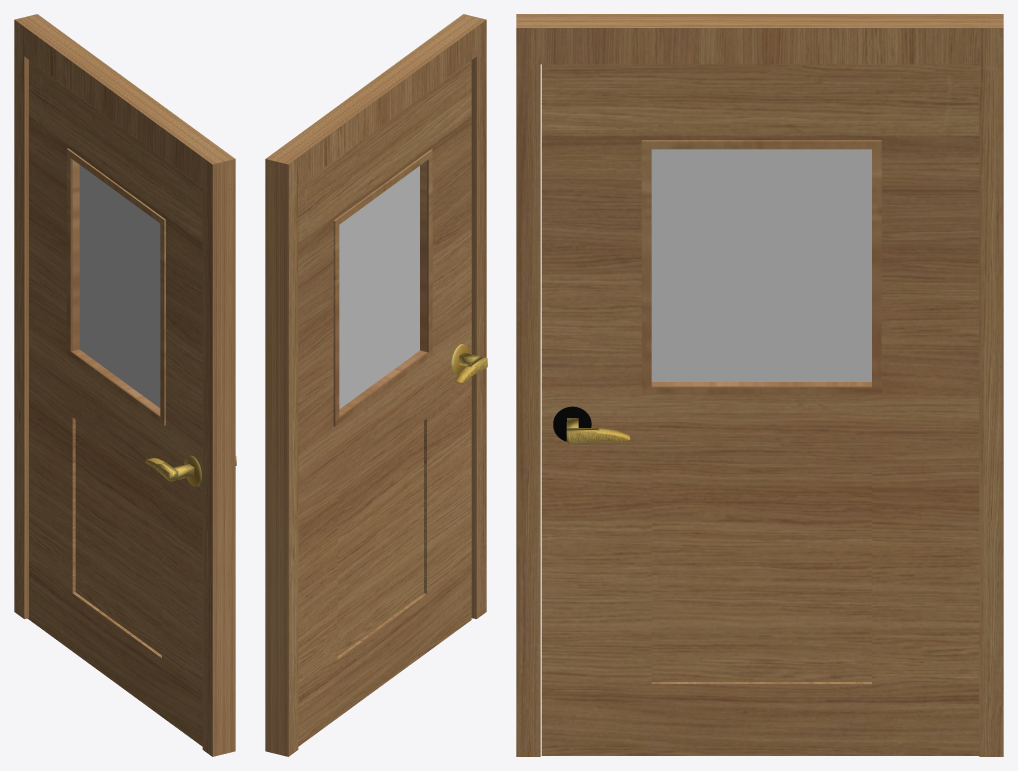
The model's file is 夜更かしdoa.fbx.
3 renders of one model, left to right at view 1: azimuth 30°, elevation 25°; view 2: azimuth 150°, elevation 25°; view 3: azimuth 270°, elevation 25°, orthographic. The views are drawn at different scales.
Visible parts, largest first — view 1: ドア, ドア枠; view 2: ドア, ドア枠; view 3: ドア, ドア枠.
Part boxes in pixels (x1=…): ドア: x1=27, y1=60, x2=236, y2=746; ドア枠: x1=14, y1=14, x2=235, y2=756; ドア: x1=298, y1=60, x2=487, y2=746; ドア枠: x1=265, y1=14, x2=486, y2=756; ドア: x1=541, y1=64, x2=979, y2=755; ドア枠: x1=516, y1=14, x2=1003, y2=756.
Size of the model in its own units: 144 by 1212 by 732.
Materials: 7 (5 with a texture image).
